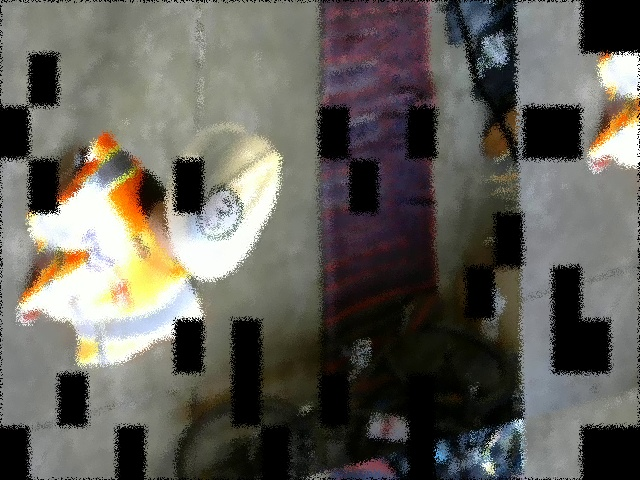three: (197, 181, 241, 243)
